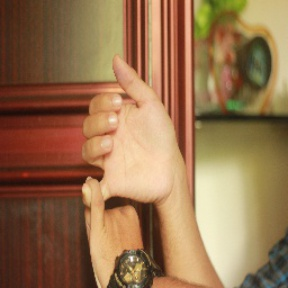S: (67, 53, 176, 280)
